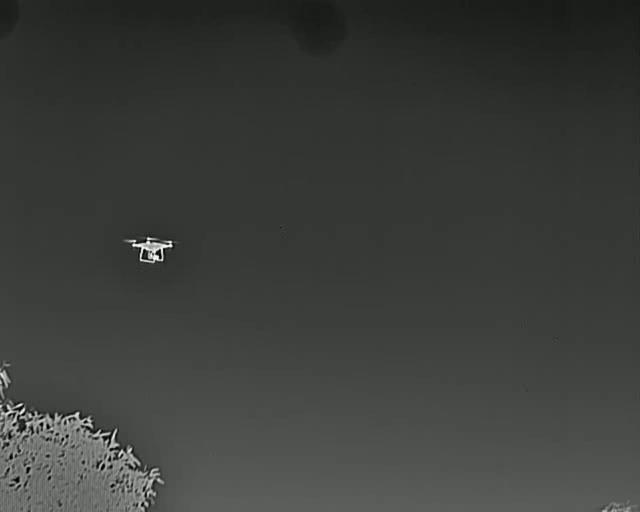DJI-Phantom: (121, 235, 182, 266)
